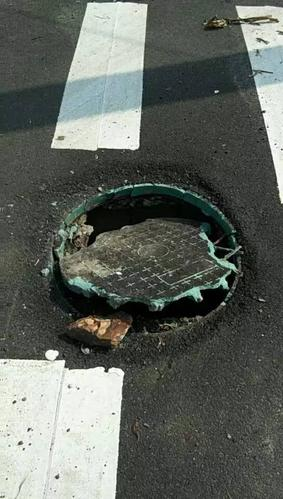broke: (10, 158, 274, 362)
